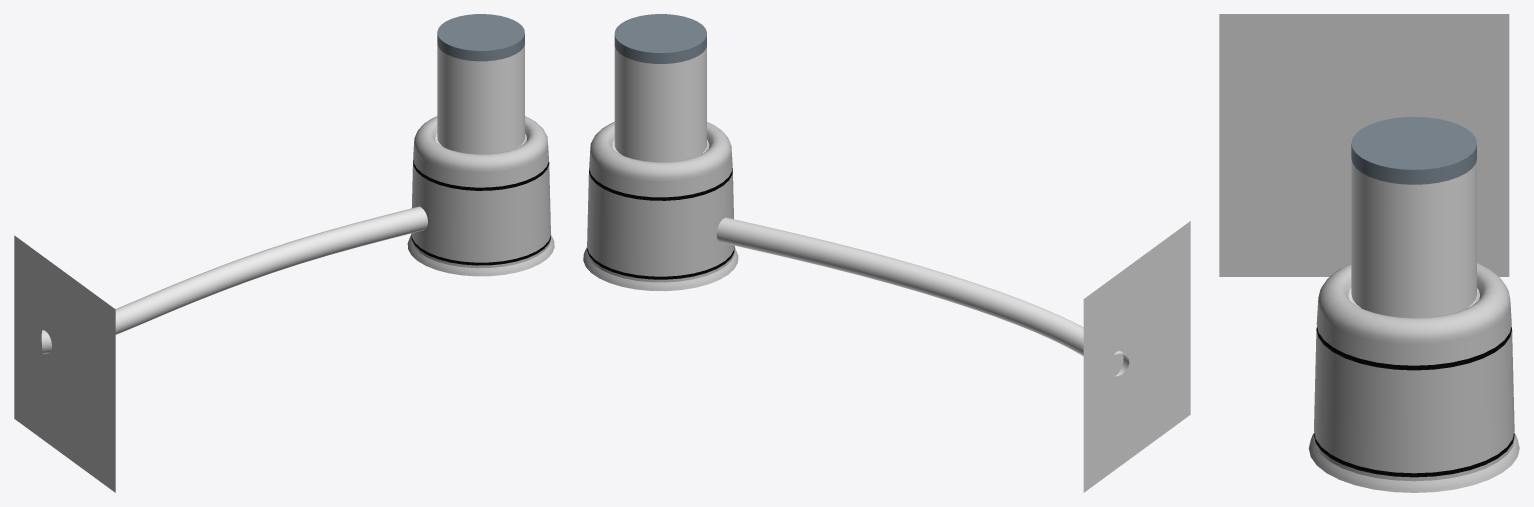
Rendered from incubator2.fbx.
3 views of the same model, side by side, from view 1: azimuth 30°, elevation 25°; view 2: azimuth 150°, elevation 25°; view 3: azimuth 270°, elevation 25° (orthographic). The views are drawn at different scales.
Parts seen in each view (by area): view 1: Circle.001, Plane, cable.001; view 2: Circle.001, Plane, cable.001; view 3: Circle.001, Plane.
Part boxes in pixels (<box>): Circle.001: <box>407,14,554,276</box>; Plane: <box>14,235,115,492</box>; cable.001: <box>41,206,427,354</box>; Circle.001: <box>583,14,738,291</box>; Plane: <box>1083,221,1190,492</box>; cable.001: <box>716,217,1129,376</box>; Circle.001: <box>1308,116,1519,492</box>; Plane: <box>1219,14,1509,276</box>.
Bounding box in the file's own units: 2391 × 1379 × 860.
